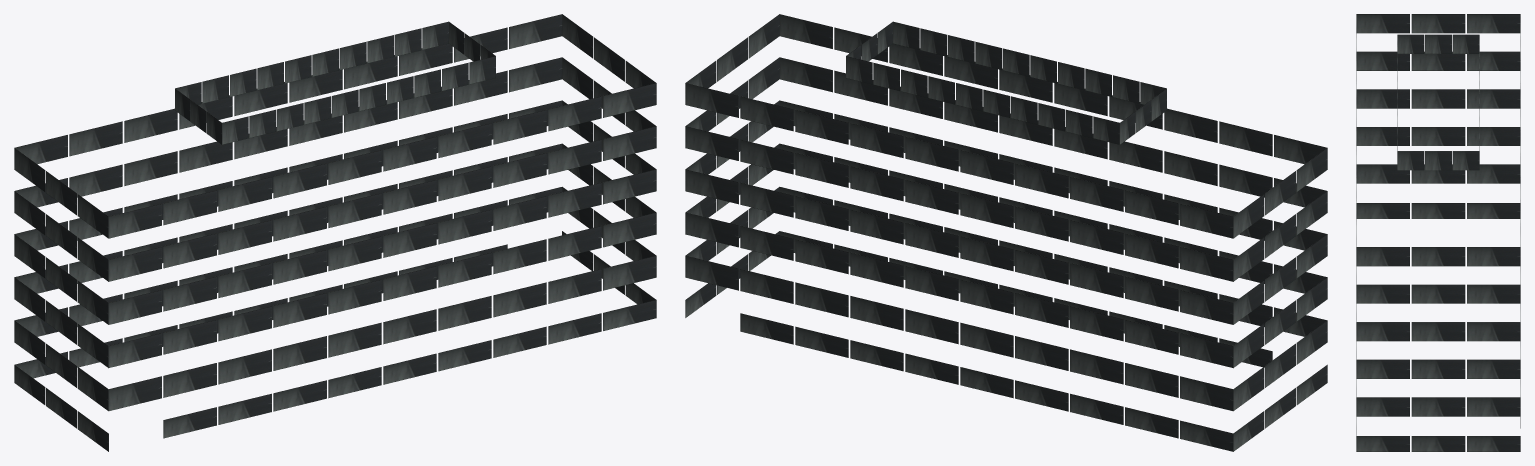
Rendered from TRANS_Building_7stores_BusinessOffice.obj.
The picture shows the model from 3 angles, left to right: view 1: azimuth 30°, elevation 25°; view 2: azimuth 150°, elevation 25°; view 3: azimuth 270°, elevation 25°; orthographic projection. The views are drawn at different scales.
Visible parts, largest first — view 1: TRANS_Building_7stores_BusinessOffice; view 2: TRANS_Building_7stores_BusinessOffice; view 3: TRANS_Building_7stores_BusinessOffice.
Part boxes in pixels (bbox=[...]): TRANS_Building_7stores_BusinessOffice: bbox=[14, 14, 656, 451]; TRANS_Building_7stores_BusinessOffice: bbox=[685, 14, 1327, 451]; TRANS_Building_7stores_BusinessOffice: bbox=[1356, 14, 1520, 451].
Size of the model in its own units: 13.09 by 6.35 by 3.9.
